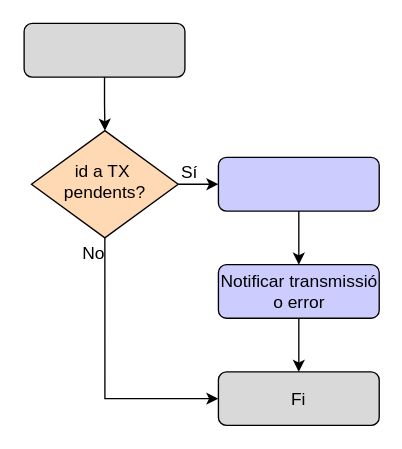
Image size: 402x449. Some labels were removed from this diagram. The centre of each missing label's shape, as x and y in pixels:
Eliminar ID de TX pendents: (298,183)
onMacTx(id) onMacTxErr(id): (104,49)
